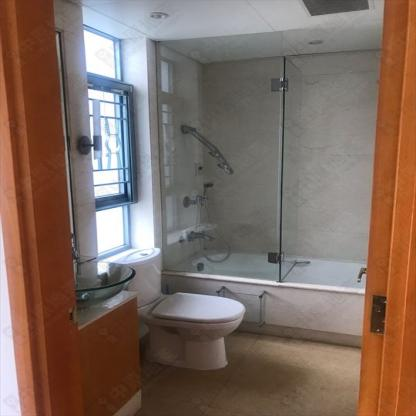Toilet: (113, 247, 246, 368)
Toilet Sink: (74, 259, 134, 309)
Water Cubicle: (161, 31, 283, 280)
